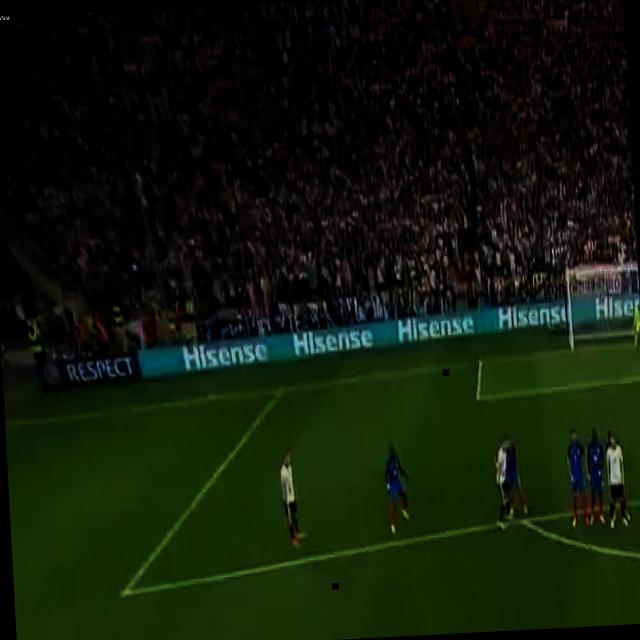player-white: (383, 441, 413, 537), (280, 452, 306, 549), (564, 428, 589, 528), (604, 432, 628, 528), (606, 429, 630, 523), (502, 436, 528, 519), (585, 430, 607, 528), (491, 438, 512, 530), (632, 302, 640, 351)
